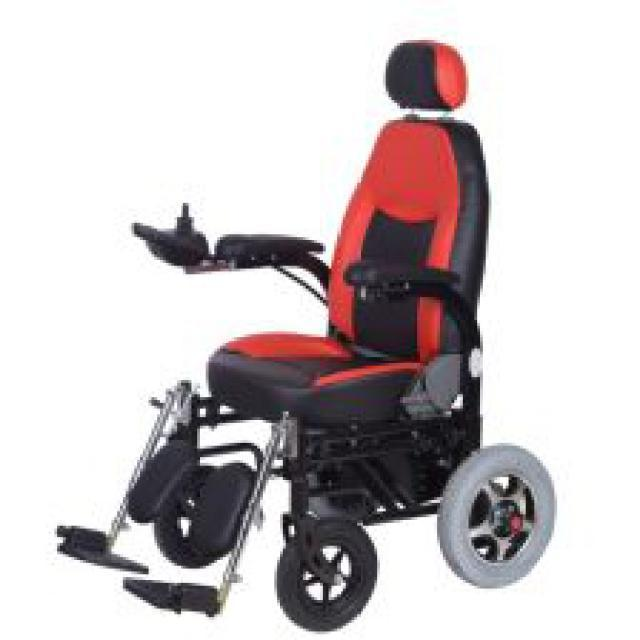wheelchair: (49, 32, 552, 638)
